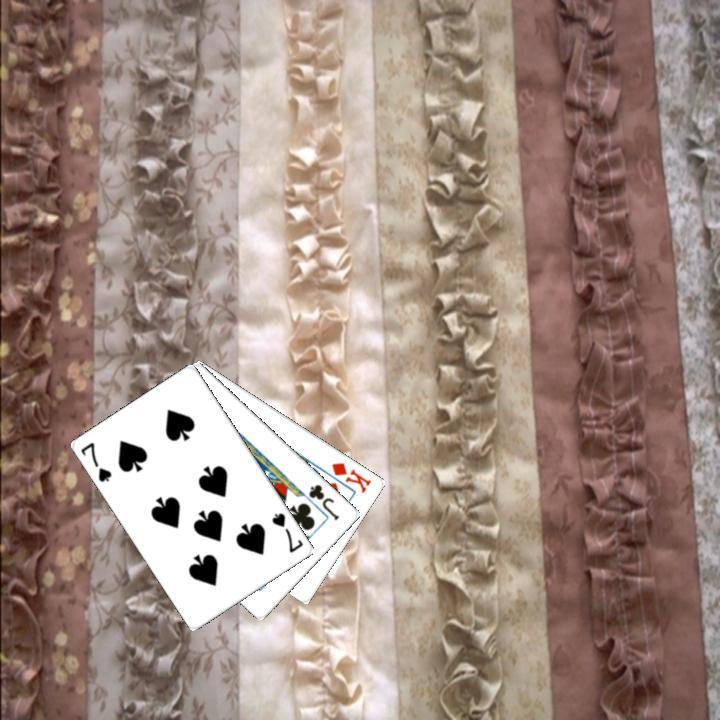7: (267, 508, 306, 555), (76, 438, 114, 484)
J: (304, 480, 342, 522)
K: (327, 458, 373, 495)
